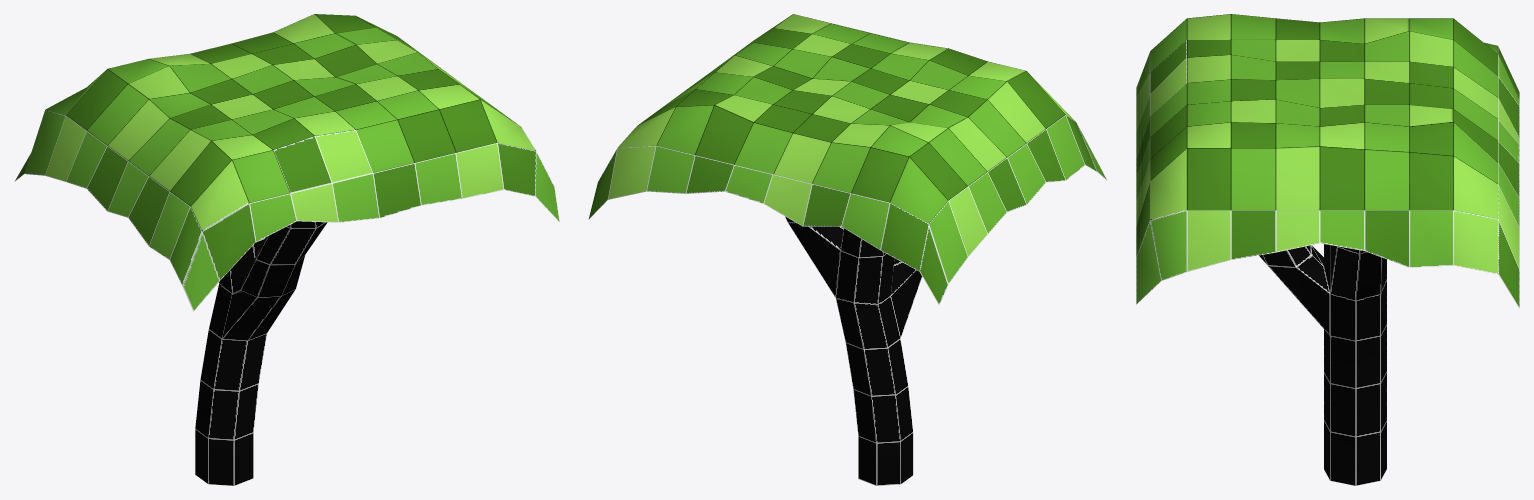
Rendered from tree test.fbx.
3 renders of one model, left to right at view 1: azimuth 30°, elevation 25°; view 2: azimuth 150°, elevation 25°; view 3: azimuth 270°, elevation 25°, orthographic. The views are drawn at different scales.
Parts seen in each view (by area): view 1: pPlane2; view 2: pPlane2; view 3: pPlane2.
Boxes of the visible parts, x1,y1,x2,y2 form: pPlane2: (14,14,559,485); pPlane2: (588,14,1106,485); pPlane2: (1136,14,1519,485).
Size of the model in its own units: 16.25 by 16.53 by 13.52.
Materials: 1 (1 with a texture image).
